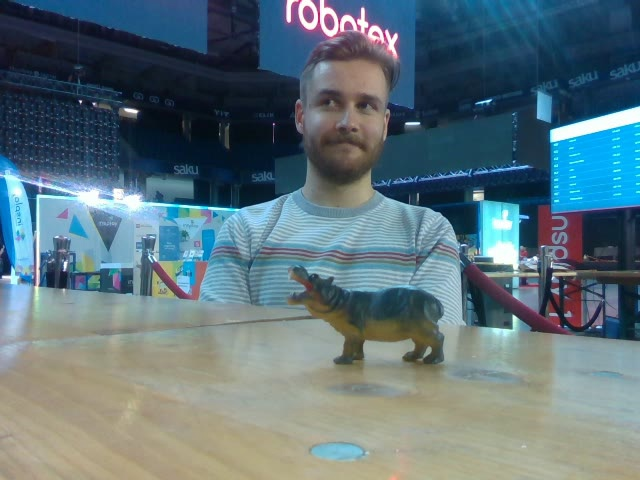toy: (287, 264, 443, 363)
